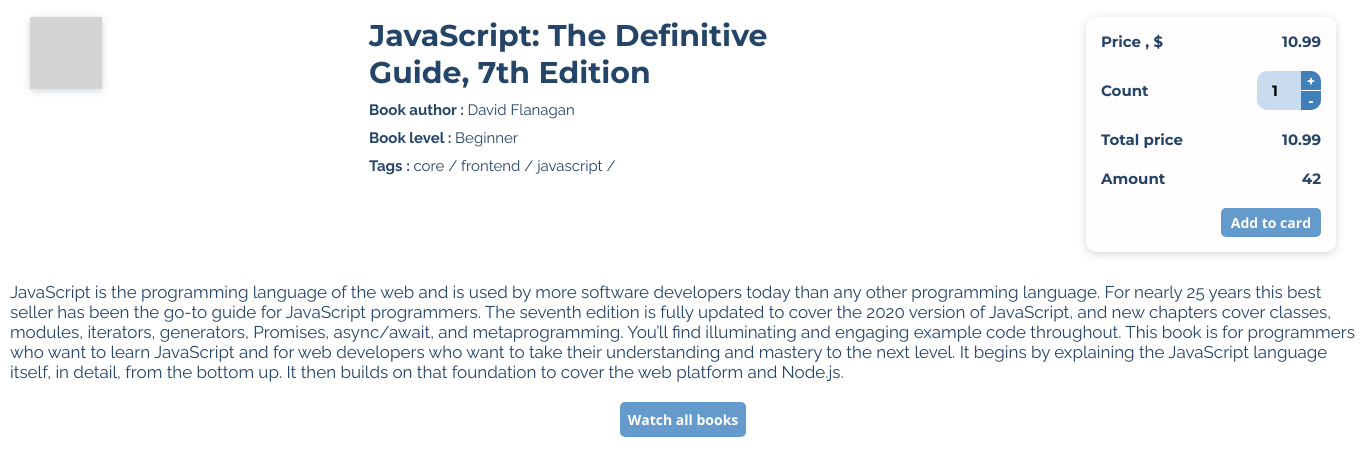
Test case: SpecificBook page testing › Increment testing
Click the button with test id "increment".
click(1311, 80)  # box [1301,71,1321,90]
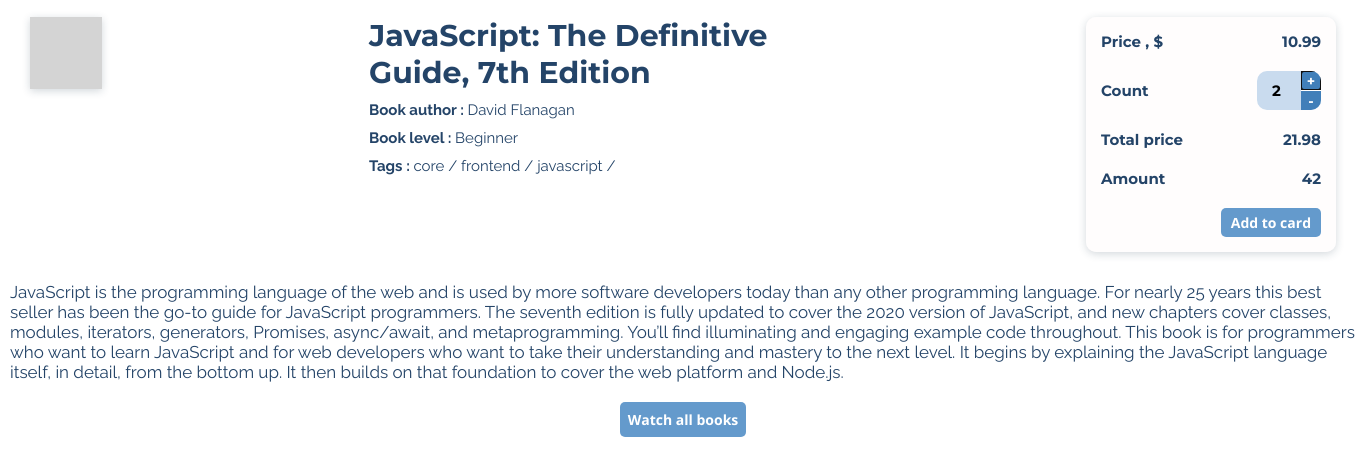
Click the button with test id "increment".
click(1311, 80)  # box [1301,71,1321,90]
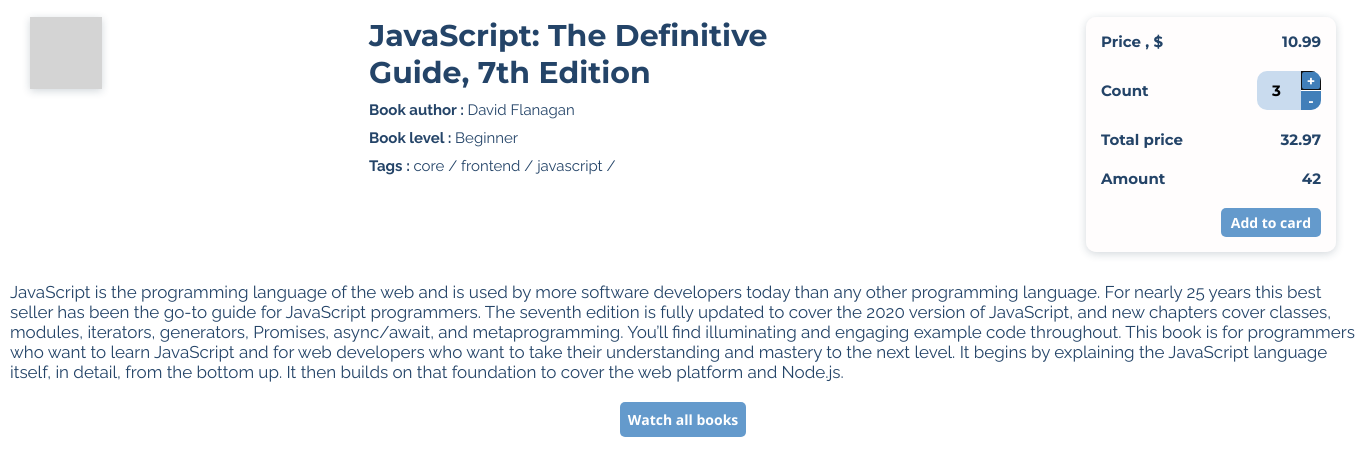
Now the number field with test id "counter" holds "3", box [1257,71,1321,110]
